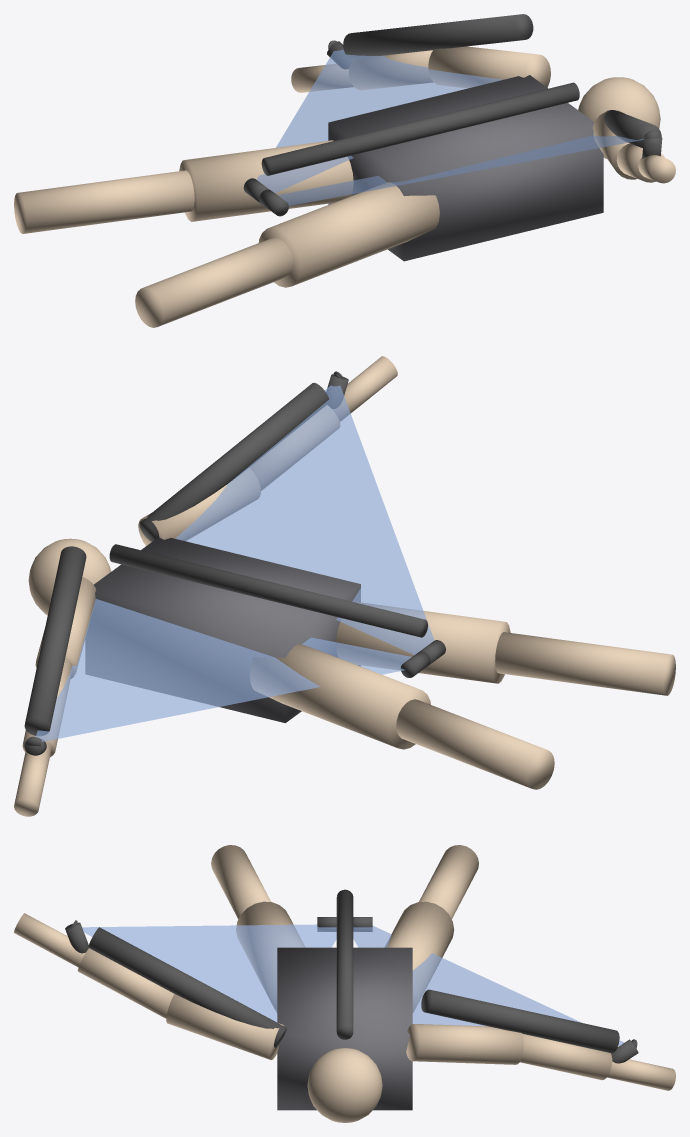
The model's file is mid_deploy.glb.
3 views of the same model, one above another, from view 1: azimuth 30°, elevation 25°; view 2: azimuth 150°, elevation 25°; view 3: azimuth 270°, elevation 25° (orthographic). The views are drawn at different scales.
Visible parts, largest first — view 1: torso_g, skin_dyn_R, ul_L, ul_R, ll_R, ll_L, spine_yoke, le_spar_R, ua_R, skin_dyn_L, head_g, fa_R (+6 smaller); view 2: torso_g, skin_dyn_L, skin_dyn_R, ul_R, ul_L, ll_L, ll_R, spine_yoke, le_spar_L, le_spar_R, ua_L, fa_L (+5 smaller); view 3: torso_g, skin_dyn_L, skin_dyn_R, le_spar_R, le_spar_L, head_g, ua_R, ul_R, ul_L, ua_L, spine_yoke, fa_L (+6 smaller).
Part boxes in pixels (x1,y1,x2,y2): torso_g: (328, 75, 603, 261); skin_dyn_R: (257, 49, 502, 192); ul_L: (258, 182, 439, 287); ul_R: (179, 140, 353, 221); ll_R: (14, 170, 194, 233); ll_L: (135, 237, 293, 327); spine_yoke: (261, 82, 579, 175); le_spar_R: (343, 14, 533, 58); ua_R: (428, 46, 550, 88); skin_dyn_L: (278, 135, 643, 206); head_g: (578, 77, 660, 158); fa_R: (349, 50, 432, 89); torso_g: (85, 537, 360, 723); skin_dyn_L: (175, 385, 434, 654); skin_dyn_R: (36, 599, 411, 741); ul_R: (250, 644, 430, 749); ul_L: (336, 602, 510, 683); ll_L: (495, 632, 675, 695); ll_R: (396, 699, 554, 789); spine_yoke: (109, 544, 427, 637); le_spar_L: (139, 382, 329, 541); le_spar_R: (24, 546, 86, 735); ua_L: (138, 468, 260, 545); fa_L: (249, 405, 339, 490); torso_g: (277, 947, 412, 1110); skin_dyn_L: (82, 924, 336, 1021); skin_dyn_R: (353, 926, 624, 1045); le_spar_R: (421, 989, 619, 1053); le_spar_L: (88, 927, 286, 1047); head_g: (307, 1048, 382, 1122); ua_R: (406, 1024, 523, 1064); ul_R: (385, 901, 454, 1012); ul_L: (236, 901, 304, 1012); ua_L: (166, 994, 284, 1059); spine_yoke: (336, 889, 353, 1039); fa_L: (77, 948, 173, 1018).
Size of the model in its own units: 1.58 by 0.5211 by 1.76.
